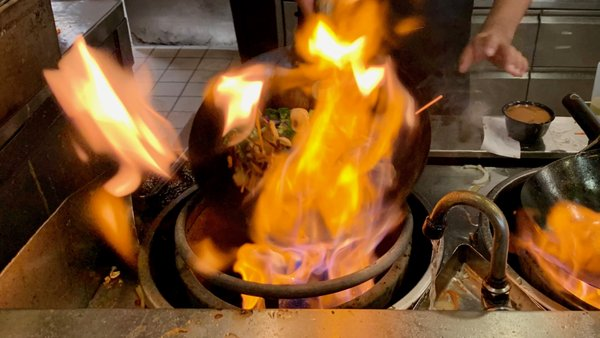sushi: (502, 100, 556, 145)
